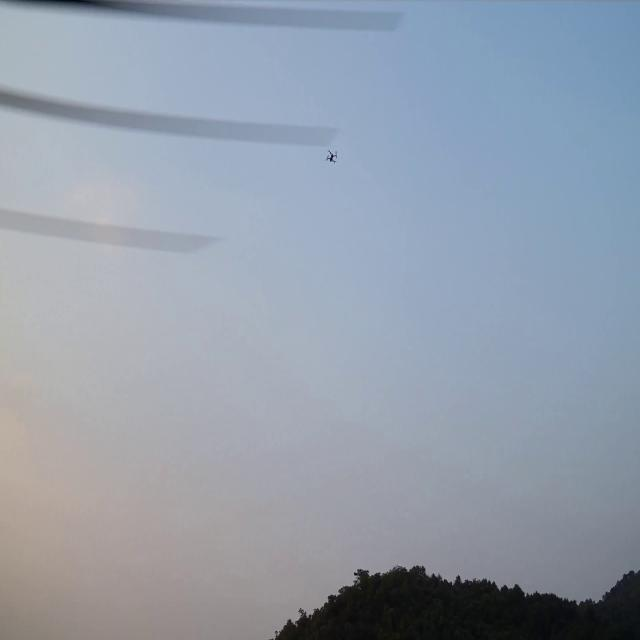UAV: (326, 148, 338, 165)
